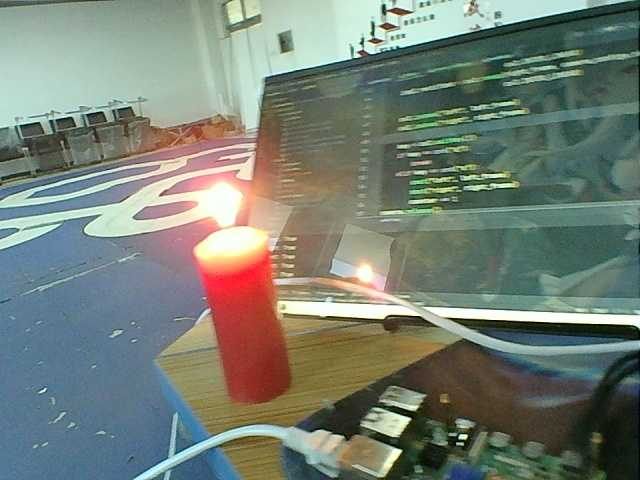candle: (188, 239, 306, 412)
fire: (193, 177, 255, 235)
